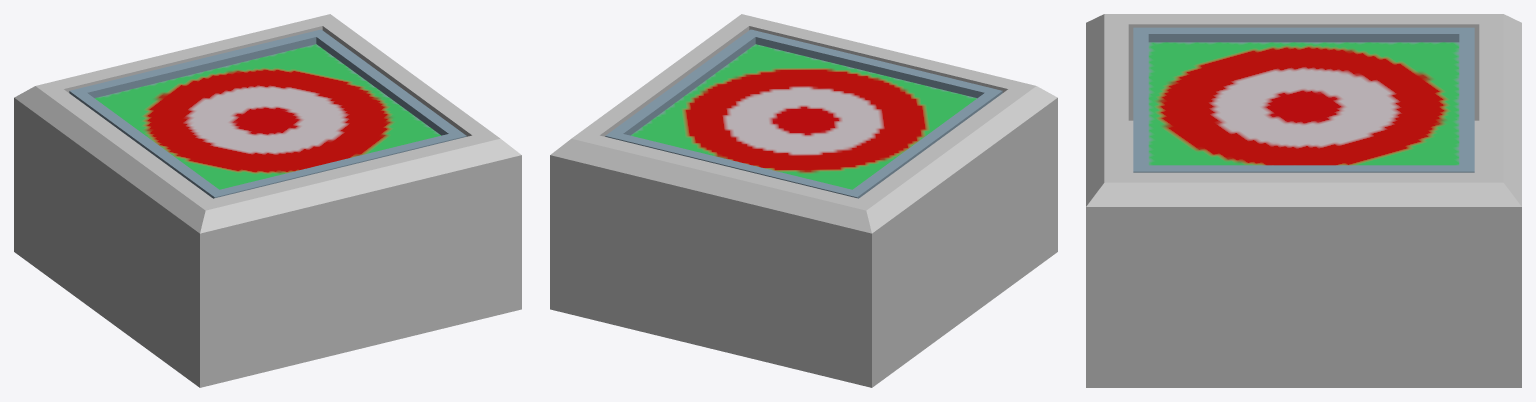
Rendered from SpringBoardTile.fbx.
3 views of the same model, side by side, from view 1: azimuth 30°, elevation 25°; view 2: azimuth 150°, elevation 25°; view 3: azimuth 270°, elevation 25° (orthographic). The views are drawn at different scales.
Parts seen in each view (by area): view 1: SpringTile, SpringBoard; view 2: SpringTile, SpringBoard; view 3: SpringTile, SpringBoard.
Part boxes in pixels (bbox=[...]): SpringTile: bbox=[14, 14, 521, 387]; SpringBoard: bbox=[69, 29, 466, 198]; SpringTile: bbox=[550, 14, 1057, 387]; SpringBoard: bbox=[605, 29, 1002, 198]; SpringTile: bbox=[1086, 14, 1521, 387]; SpringBoard: bbox=[1133, 27, 1474, 172].
Bounding box in the file's own units: 200 × 100 × 200.
